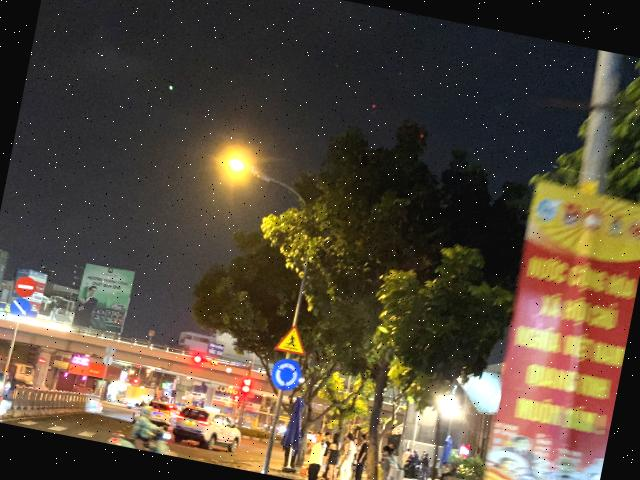cam-di-nguoc-chieu: (12, 274, 38, 299)
duong-nguoi-di-bo-cat-ngang: (272, 322, 310, 355)
huong-phai-di-vong-chuong-ngai-vat: (8, 296, 32, 319)
noi-giao-nhau-chay-theo-vong-xuyen: (268, 355, 304, 393)
